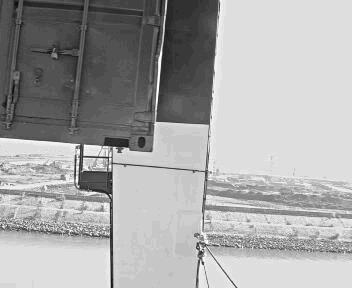twist_lock_1: (109, 144, 129, 158)
